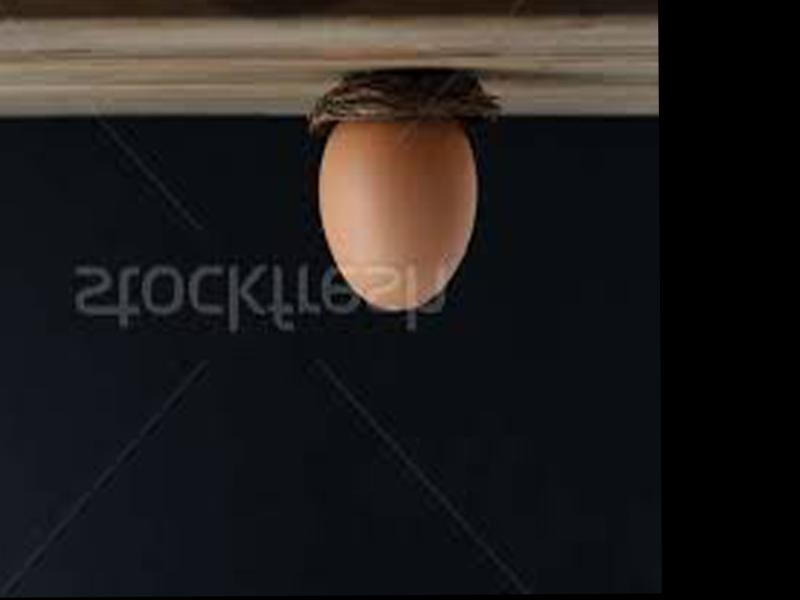Eggs: (321, 115, 480, 309)
